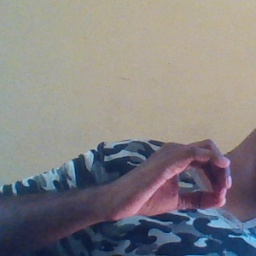O: (123, 135, 237, 228)
